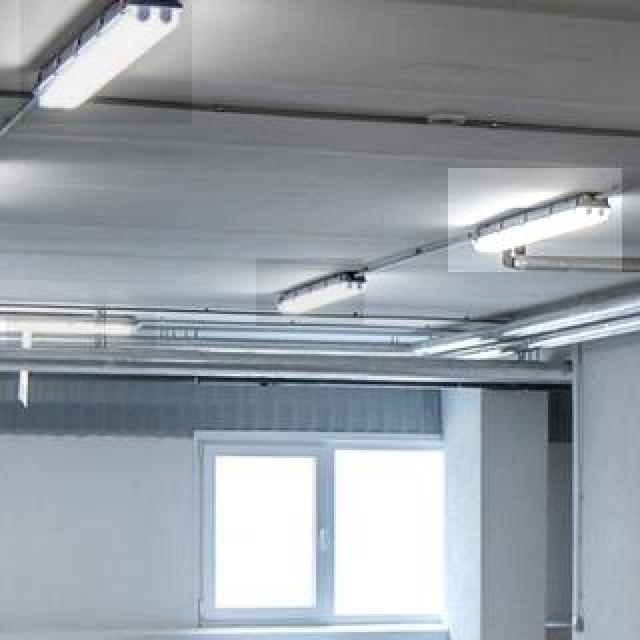fluorescent tube: (18, 0, 214, 140), (440, 180, 640, 270), (256, 240, 400, 333)
